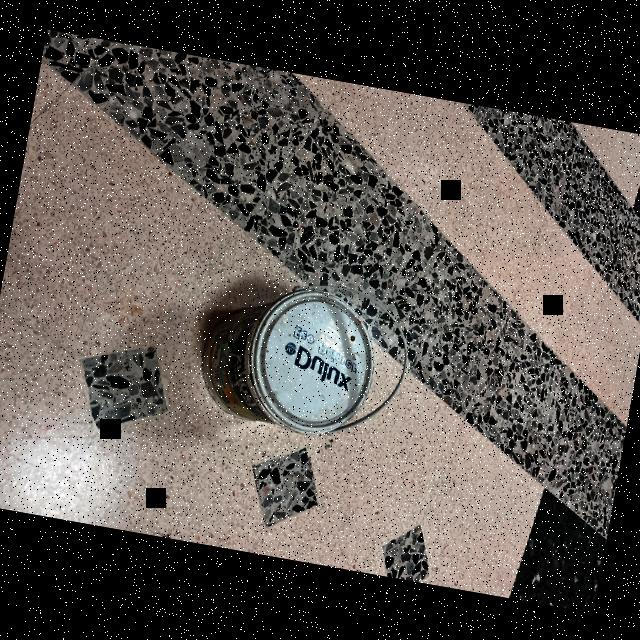paint_bucket: (191, 269, 387, 445)
